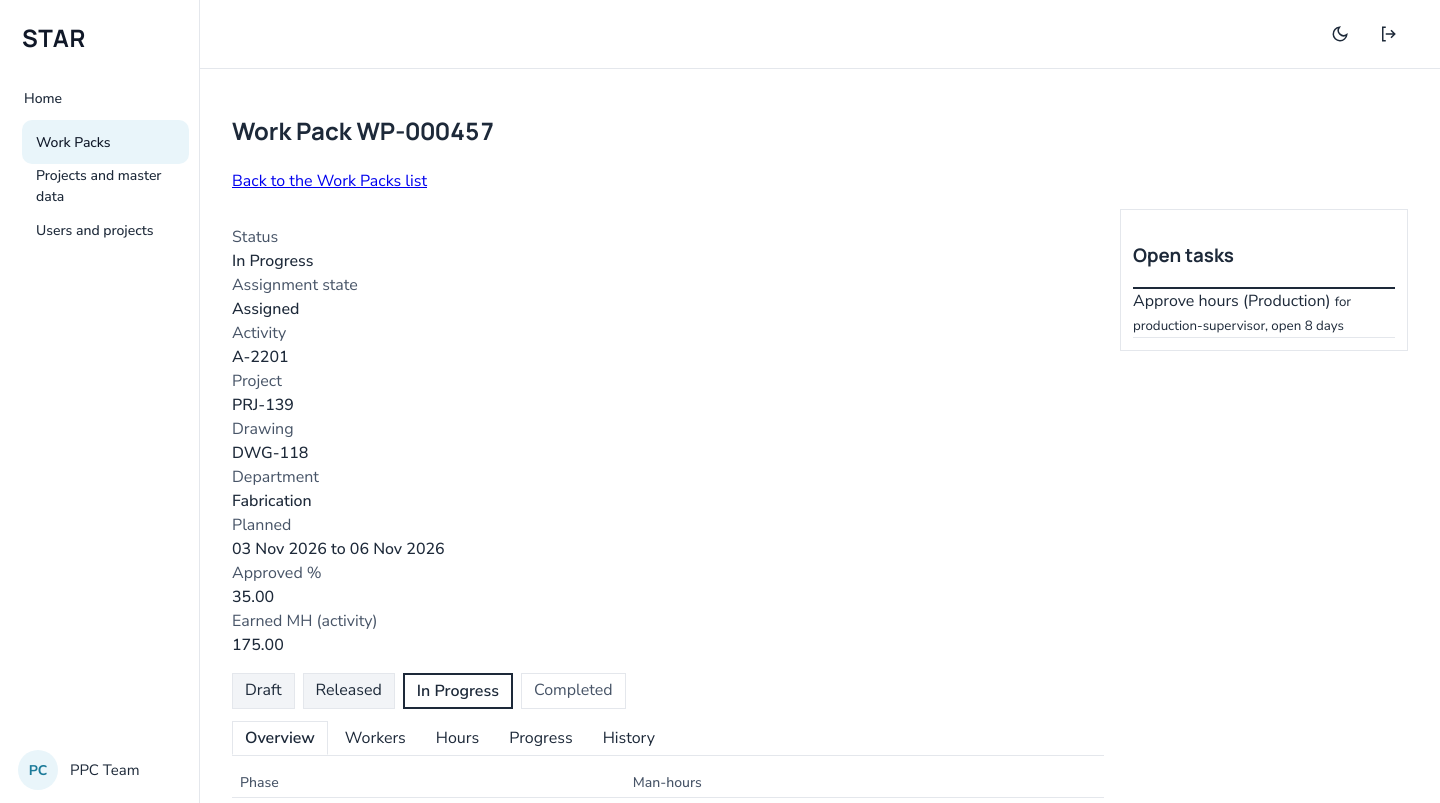
WorkPackDetailPage › showMoreReadsTheNextPageOfTheHistory
Expected: the element showing "Overview Workers Hours Progress History" is shown, [232,721,1104,756]
Click the tab "History": coordinates (629, 738) [590,721,668,755]
(page scrolled)
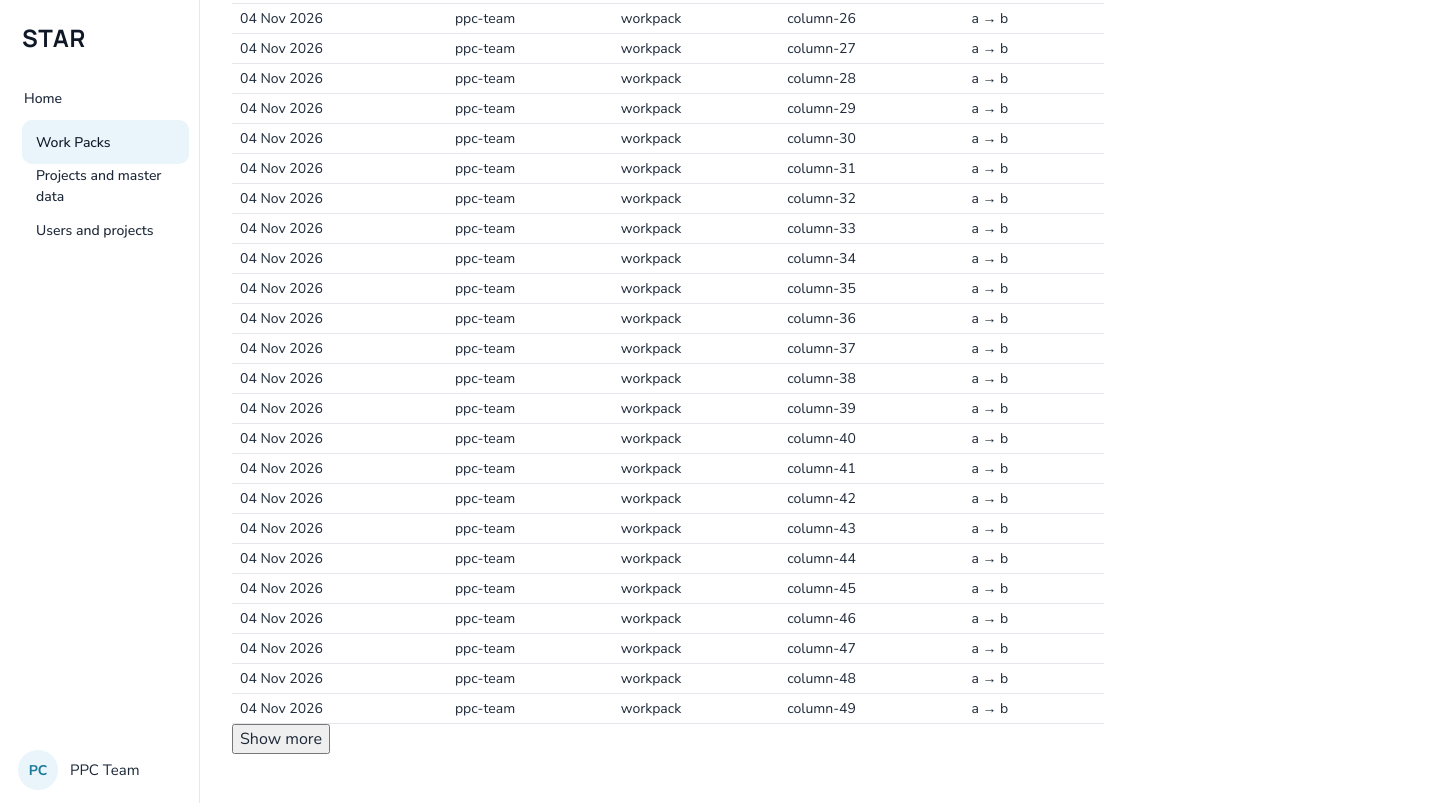
Click the button "Show more": coordinates (281, 739) [232,724,330,754]
(page scrolled)
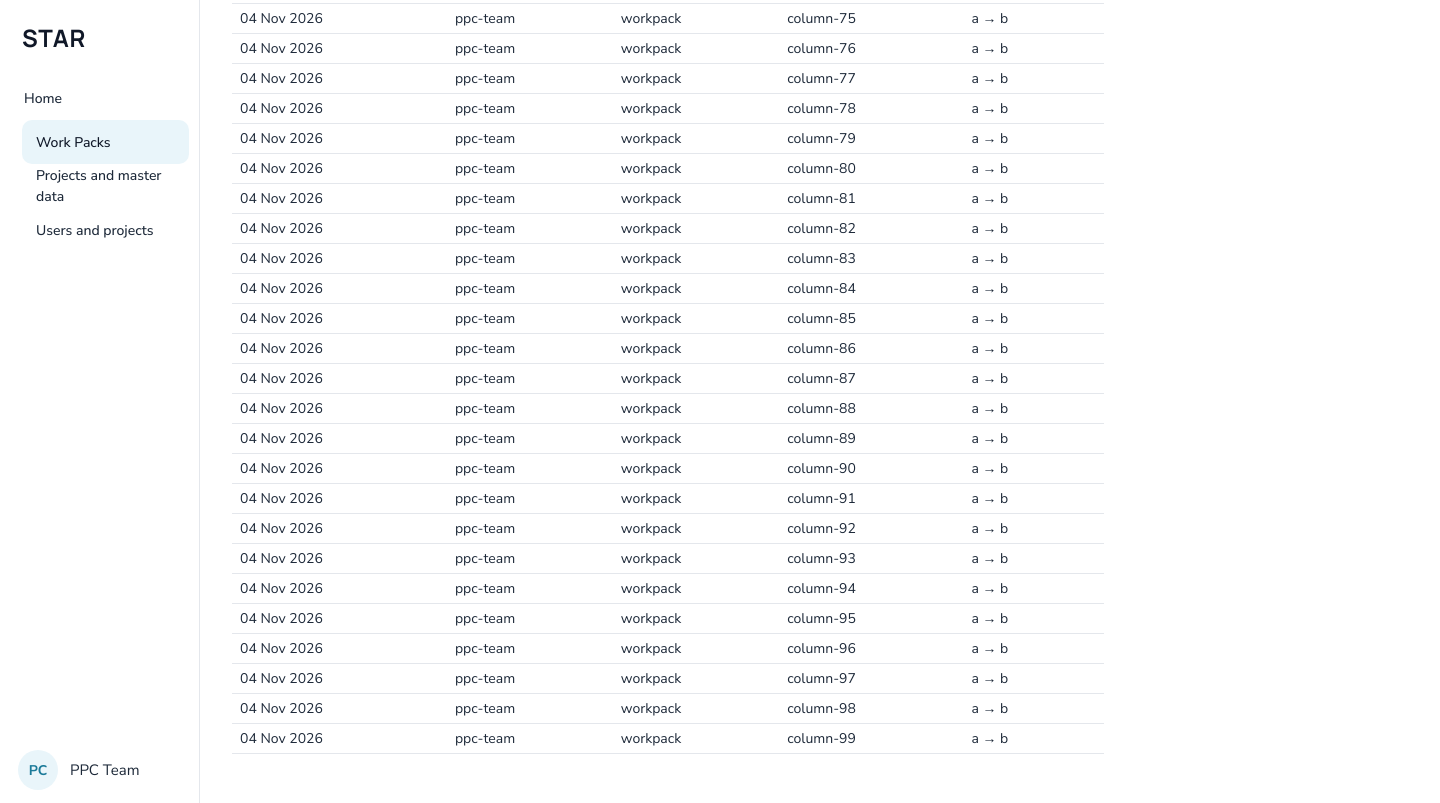
Result: the text "column-99" is shown at [779,723,963,753]
Result: the button "Show more" is gone
